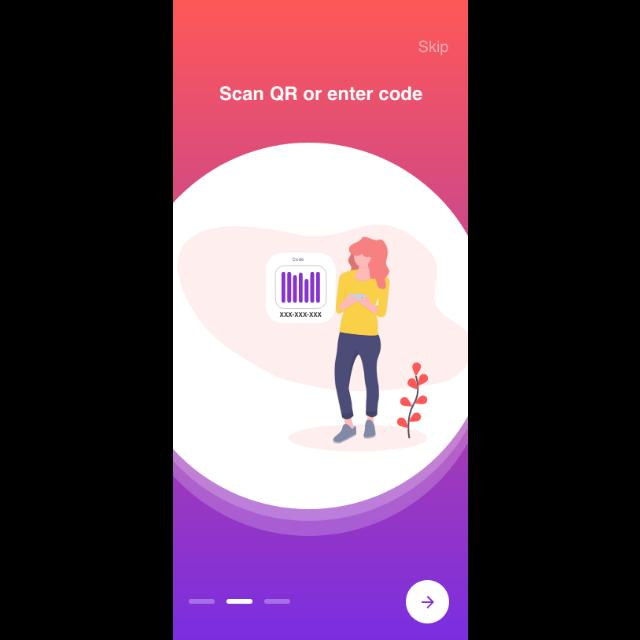icon: (406, 580, 448, 624)
image: (178, 225, 468, 451)
pageindicator: (188, 598, 290, 604)
text: (220, 87, 422, 101), (418, 40, 448, 56)
